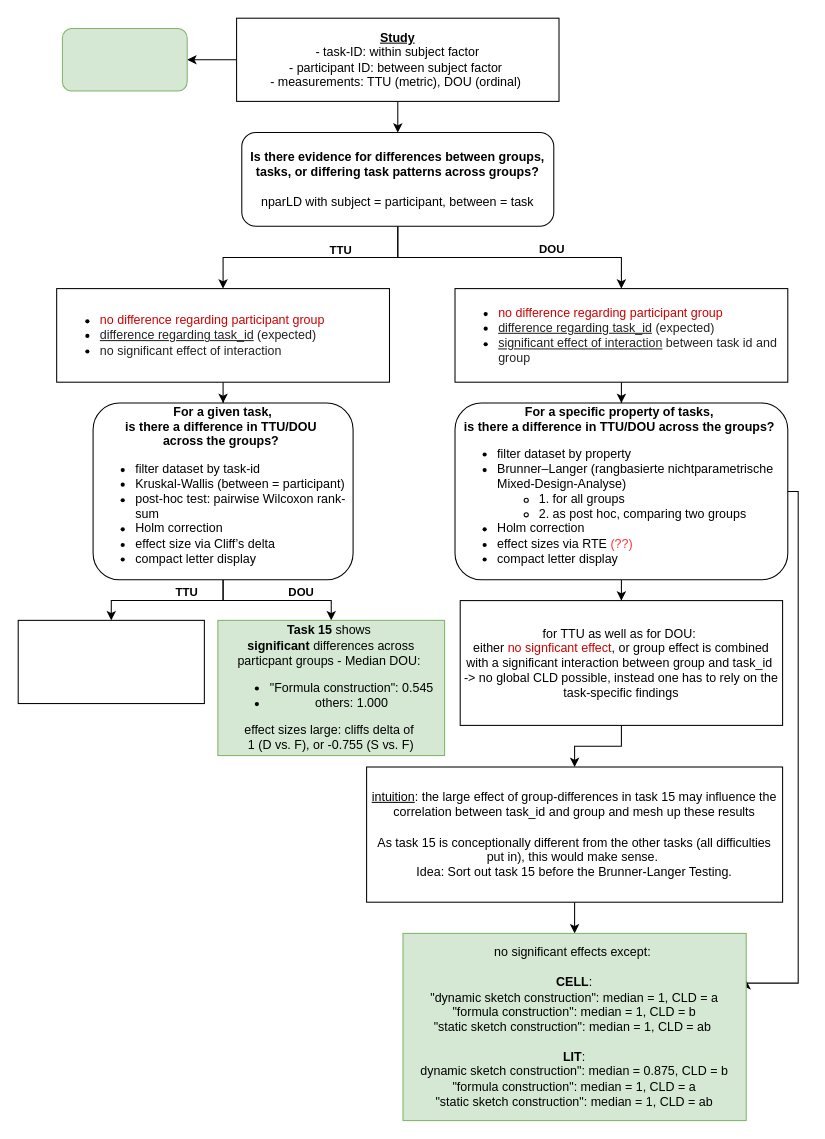
This 825x1139 diagram has some shape labels left out. The shapes that lost their labels are listed below. From the top down, each one's centre as x and y in pixels, then its label:
At pixel 124 59: "box plots per participant group".
At pixel 110 661: "in no task significant effect of participant group on TTU".
